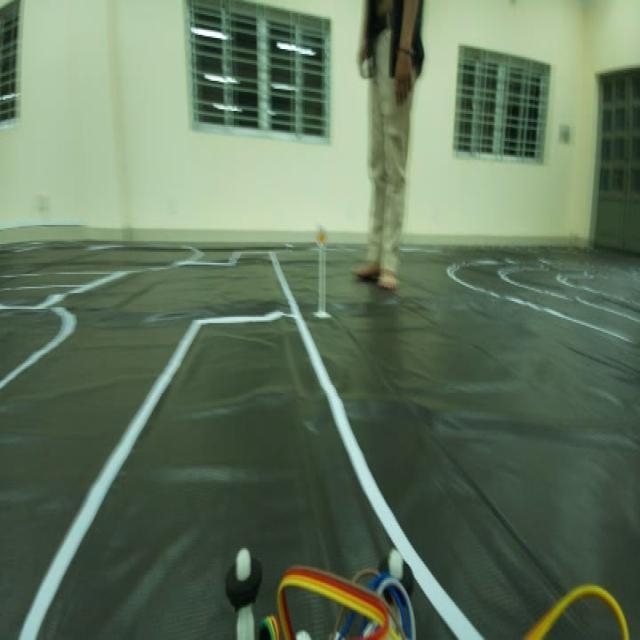priority: (313, 223, 329, 252)
